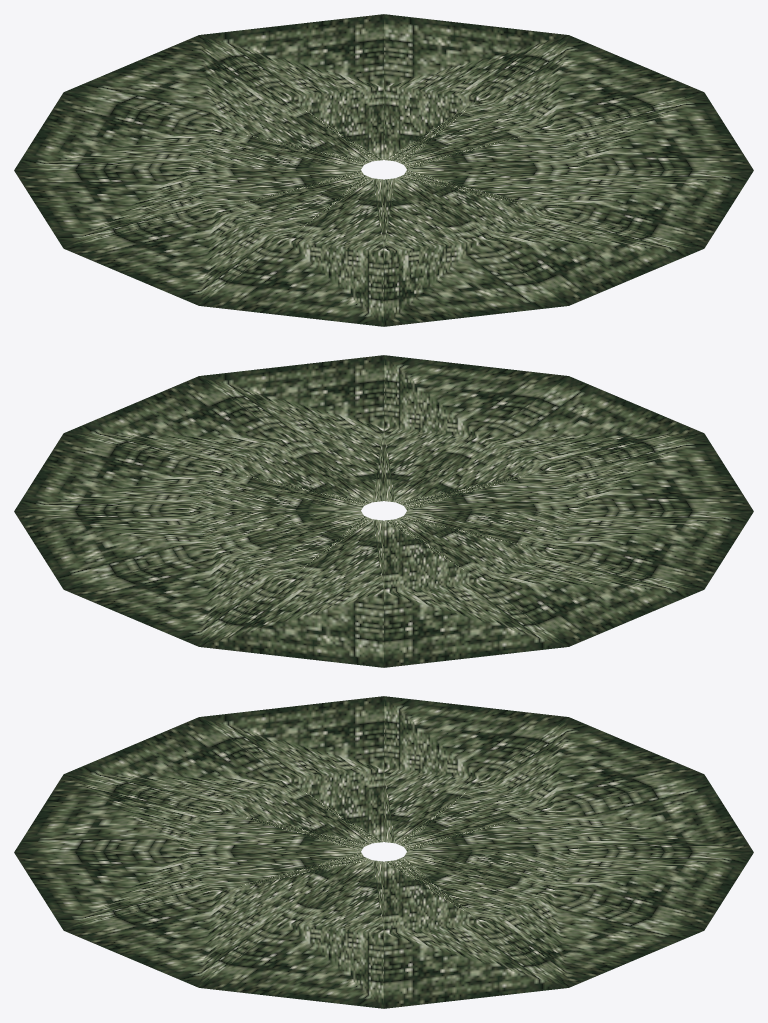
3 renders of one model, top to bottom at view 1: azimuth 30°, elevation 25°; view 2: azimuth 150°, elevation 25°; view 3: azimuth 270°, elevation 25°, orthographic.
Parts seen in each view (by area): view 1: mesh00; view 2: mesh00; view 3: mesh00.
Boxes of the visible parts, bbox=[...] form: mesh00: bbox=[14, 14, 753, 326]; mesh00: bbox=[14, 355, 753, 667]; mesh00: bbox=[14, 696, 753, 1008].
Bounding box in the file's own units: 980 × 1.95 × 980.
